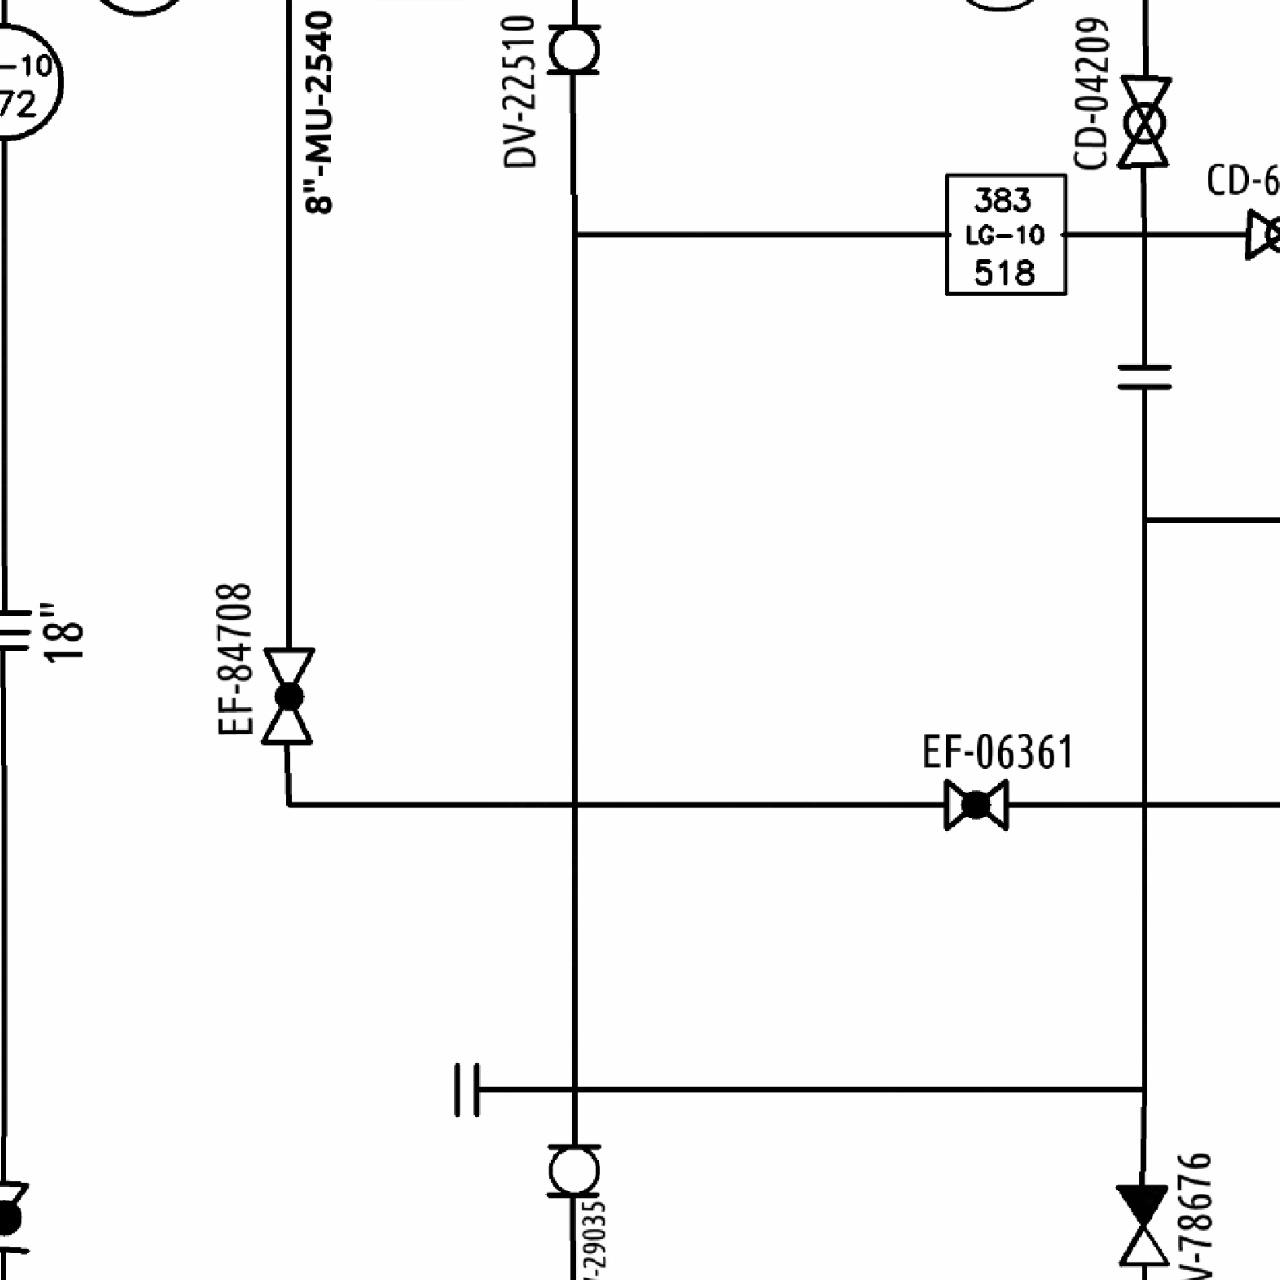Half closed valve: (1111, 1180, 1173, 1269)
